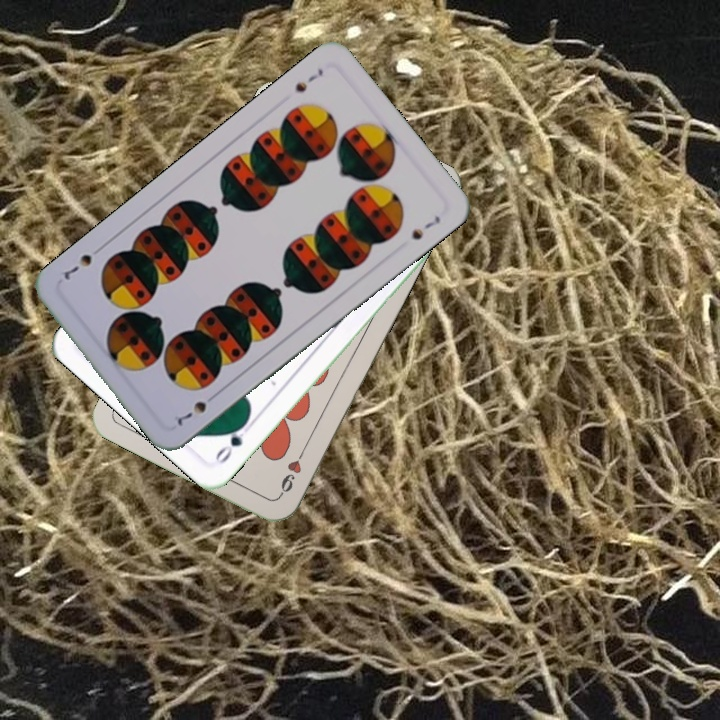GO: (210, 416, 256, 467)
H9: (274, 444, 308, 499)
S7: (173, 388, 221, 429), (291, 64, 326, 95)
